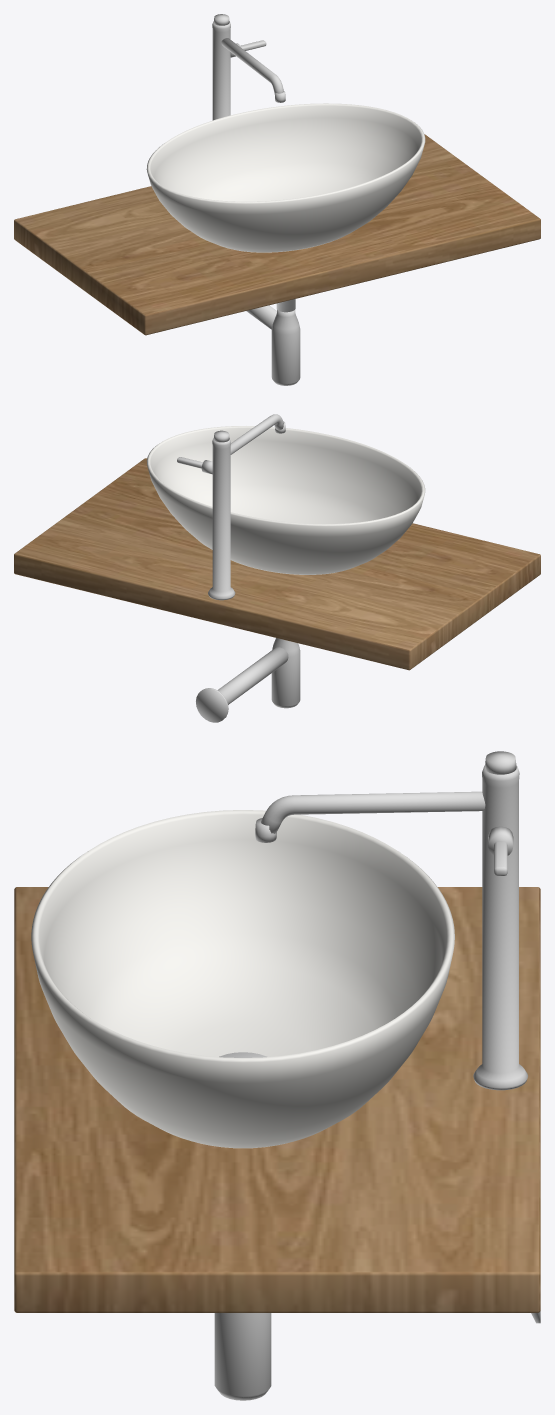
Rendered from lavabo_sobre_encimera_ovalado_80.glb.
The picture shows the model from 3 angles, top to bottom: view 1: azimuth 30°, elevation 25°; view 2: azimuth 150°, elevation 25°; view 3: azimuth 270°, elevation 25°; orthographic projection. The views are drawn at different scales.
Visible parts, largest first — view 1: lavabo_sobre_encimera_ovalado_80; view 2: lavabo_sobre_encimera_ovalado_80; view 3: lavabo_sobre_encimera_ovalado_80.
Boxes of the visible parts, <box> form: lavabo_sobre_encimera_ovalado_80: <box>14,14,540,385</box>; lavabo_sobre_encimera_ovalado_80: <box>14,414,540,722</box>; lavabo_sobre_encimera_ovalado_80: <box>14,751,540,1400</box>.
Size of the model in its own units: 0.8 by 0.612 by 0.46.
3 materials, 1 textured.
